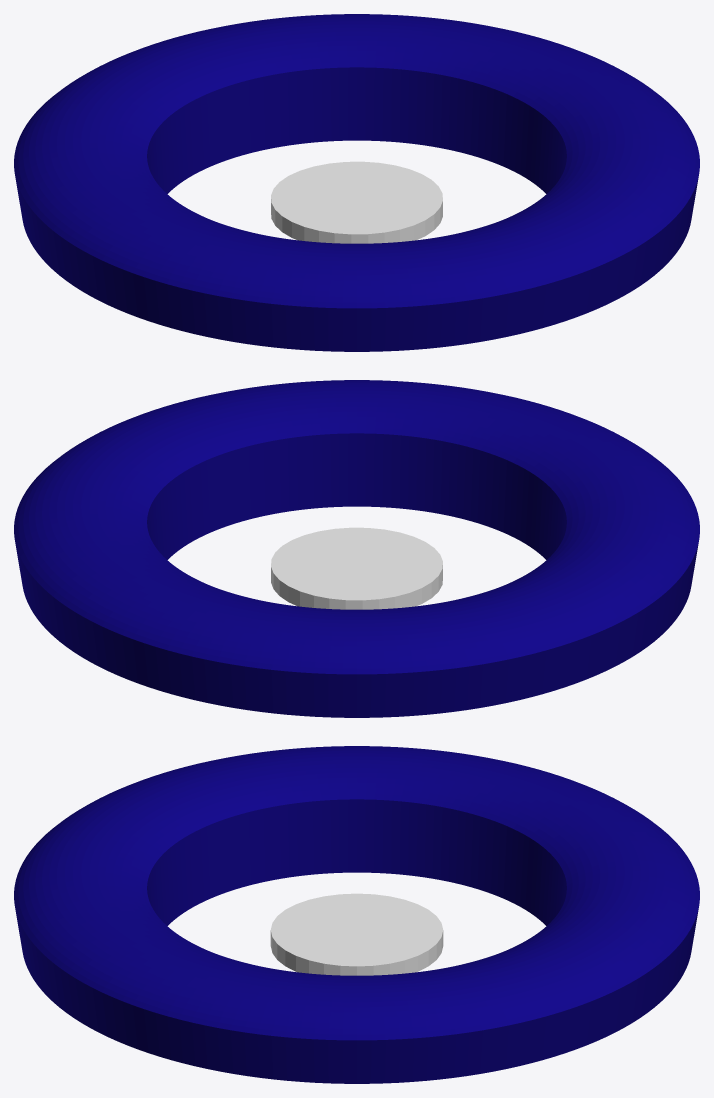
The picture shows the model from 3 angles, top to bottom: view 1: azimuth 30°, elevation 25°; view 2: azimuth 150°, elevation 25°; view 3: azimuth 270°, elevation 25°; orthographic projection.
Parts seen in each view (by area): view 1: Torus.001, Circle; view 2: Torus.001, Circle; view 3: Torus.001, Circle.
Boxes of the visible parts, x1=… form: Torus.001: x1=14, y1=14, x2=699, y2=351; Circle: x1=271, y1=161, x2=442, y2=243; Torus.001: x1=14, y1=380, x2=699, y2=717; Circle: x1=271, y1=527, x2=442, y2=609; Torus.001: x1=14, y1=746, x2=699, y2=1083; Circle: x1=270, y1=893, x2=443, y2=975.
Size of the model in its own units: 4463 by 620 by 4462.
